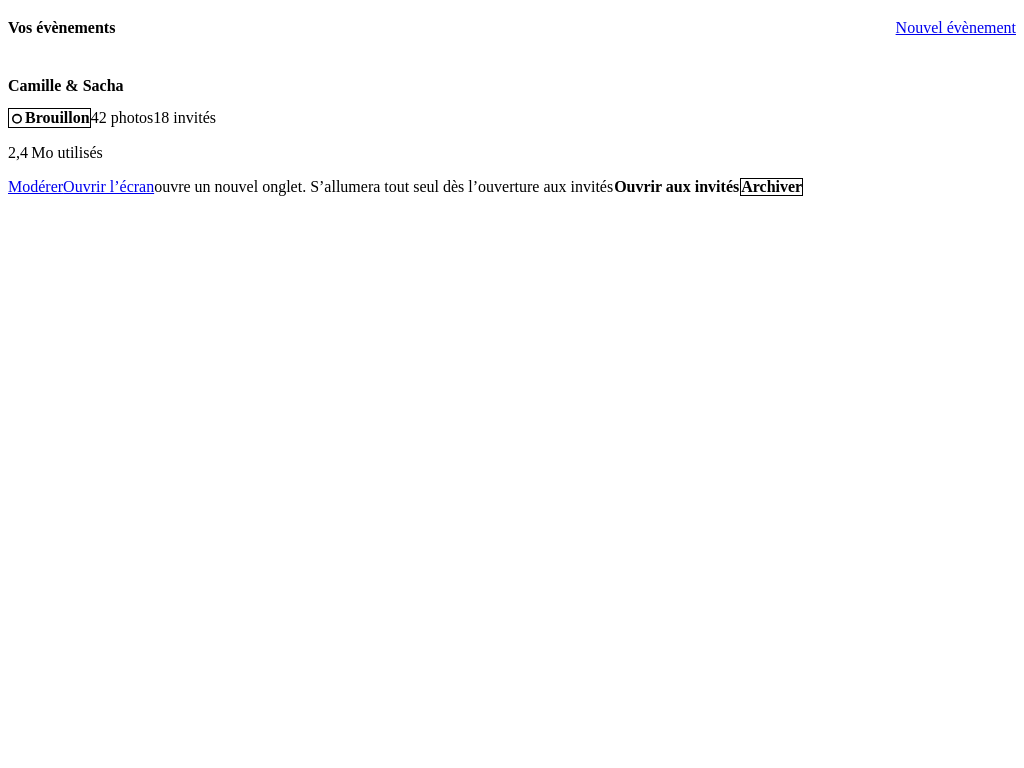
it: DashboardPage › reports a refused lifecycle change instead of pretending it worked
Click the button "Ouvrir aux invités" at (677, 187), box [613,178,740,196]
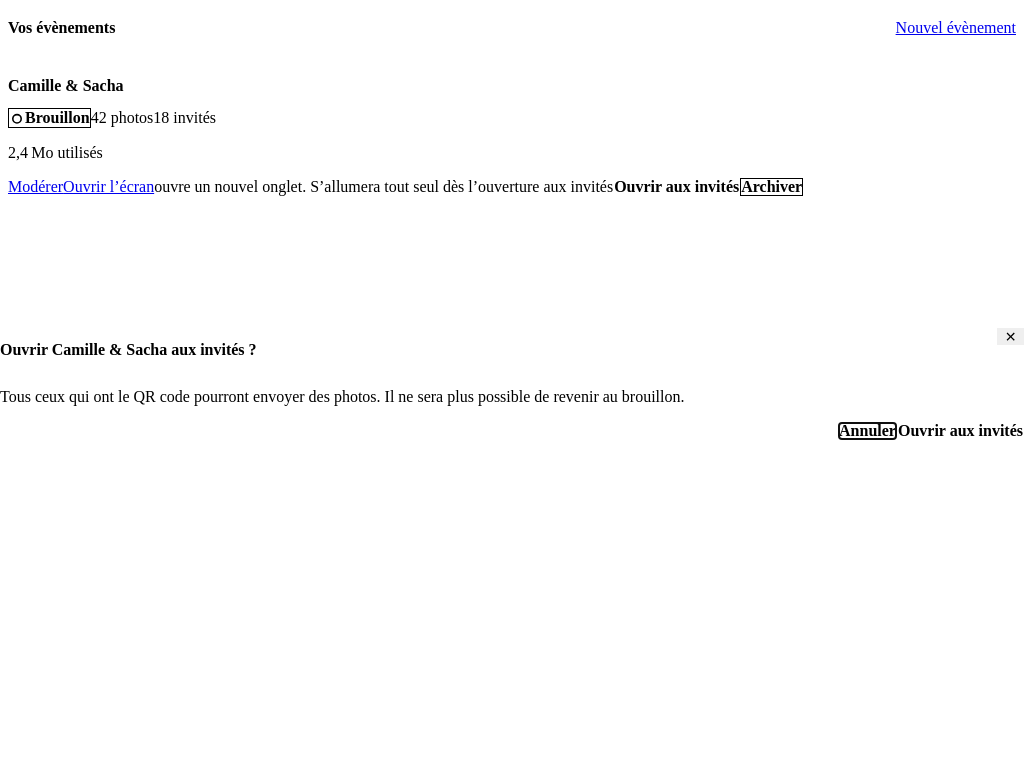
Click the button "Ouvrir aux invités" at (960, 431), box [897,422,1023,440]
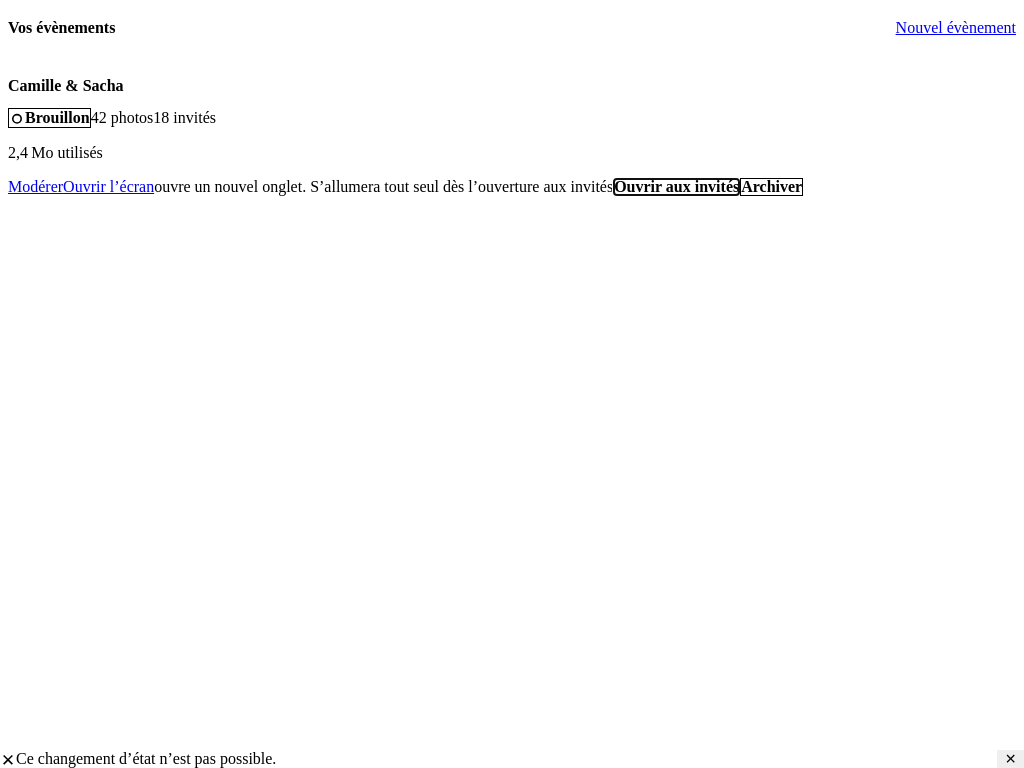
Check: the text "Brouillon" is shown, box [8,108,91,128]
Check: the message reads "Ce changement d’état n’est pas possible.", box [16,750,276,767]
